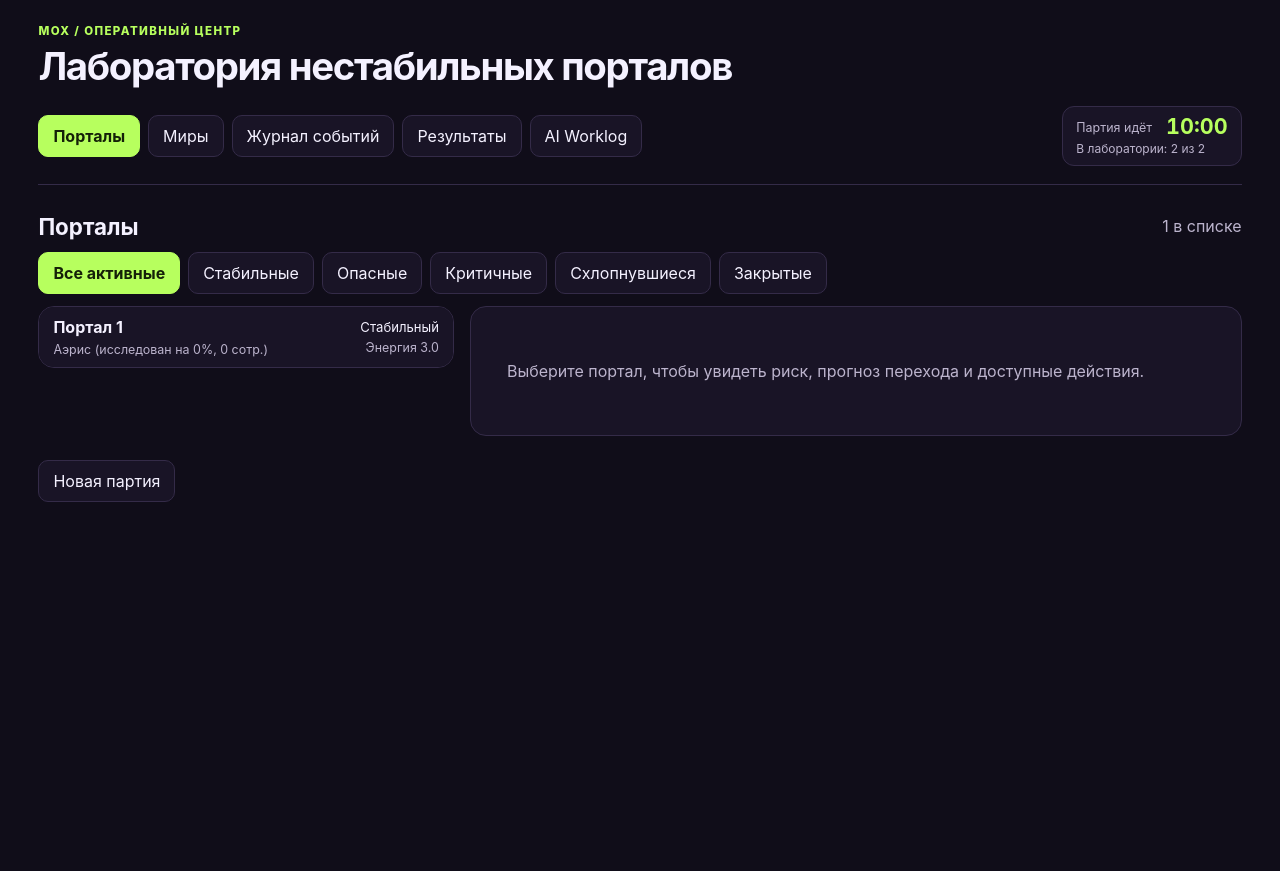
Test: App › позволяет закрыть тост вручную
Click the button "Портал 1".
click(88, 327)  # box [39,307,453,367]
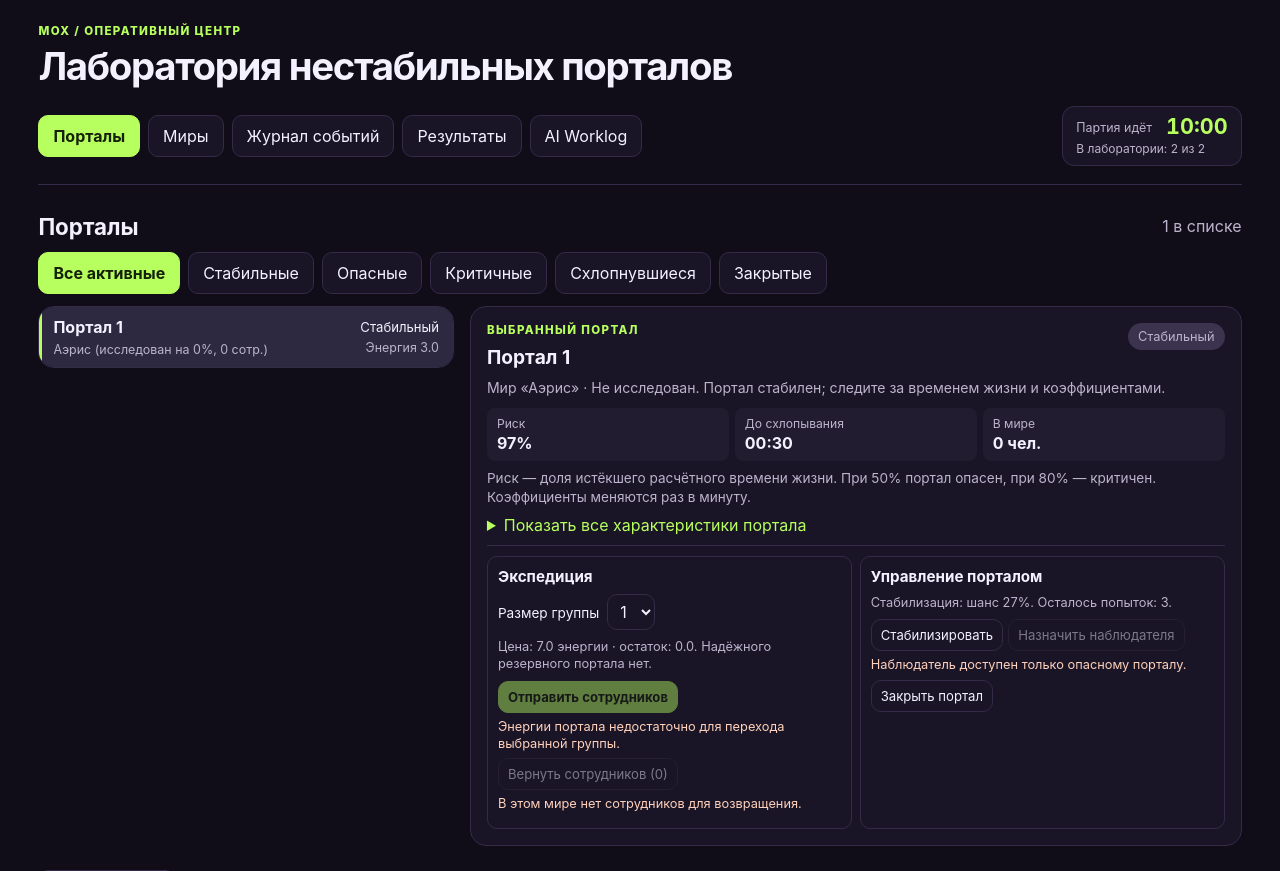
Click the button "Закрыть портал".
click(932, 696)  # box [871,680,993,712]
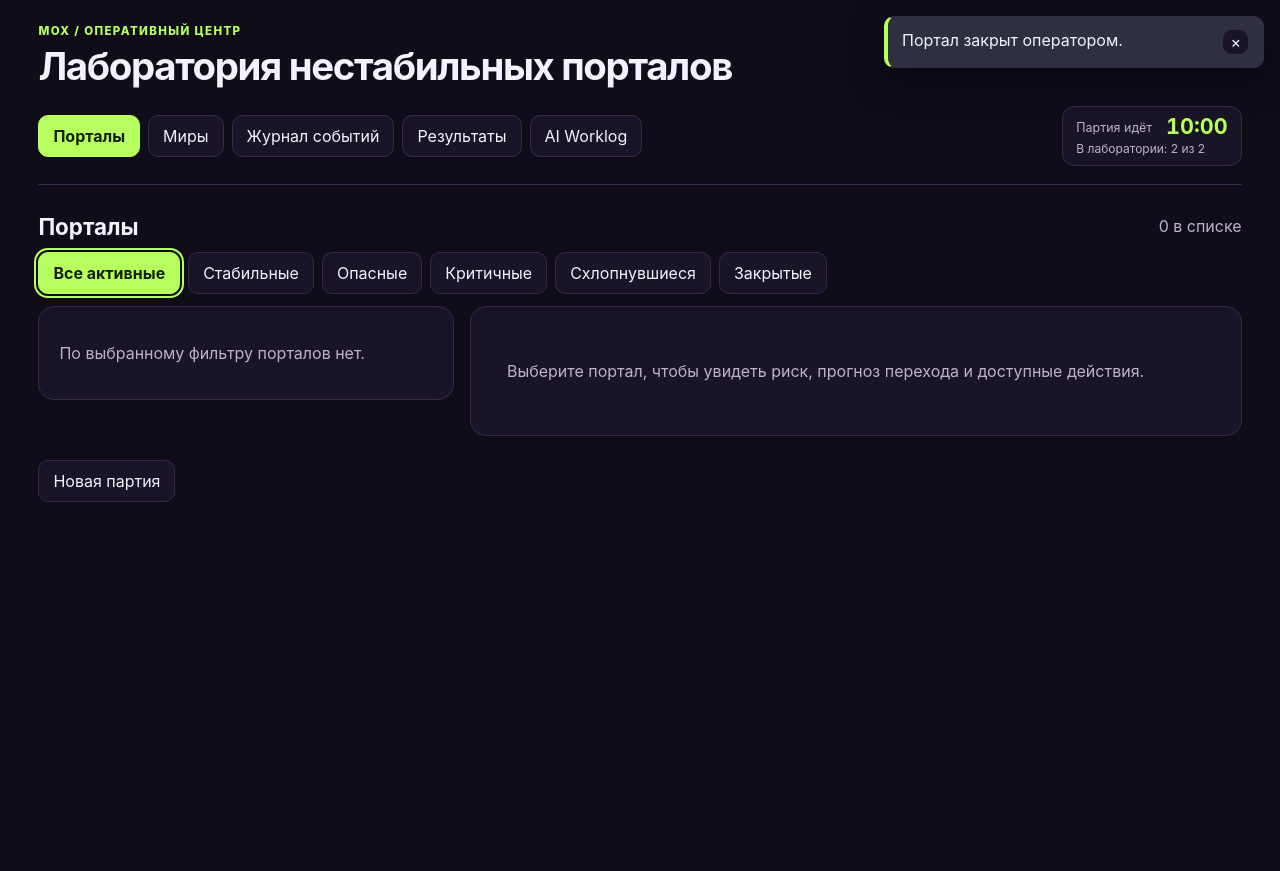
Expected: the message "Портал закрыт оператором. ×" is shown, [884,16,1264,68]
Click the button named "Закрыть уведомление".
click(1236, 42)  # box [1222,29,1249,55]
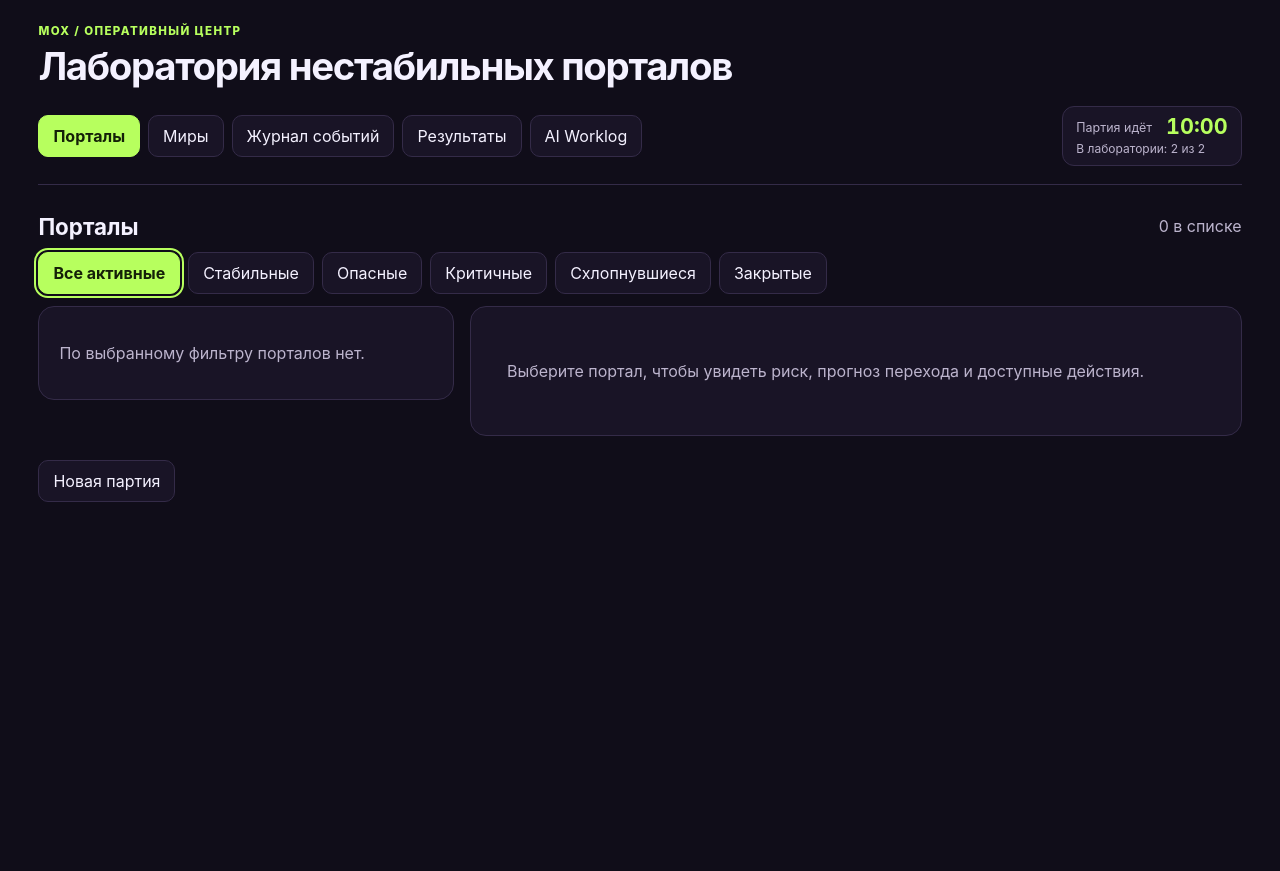
Expected: the message "Портал закрыт оператором. ×" is gone
